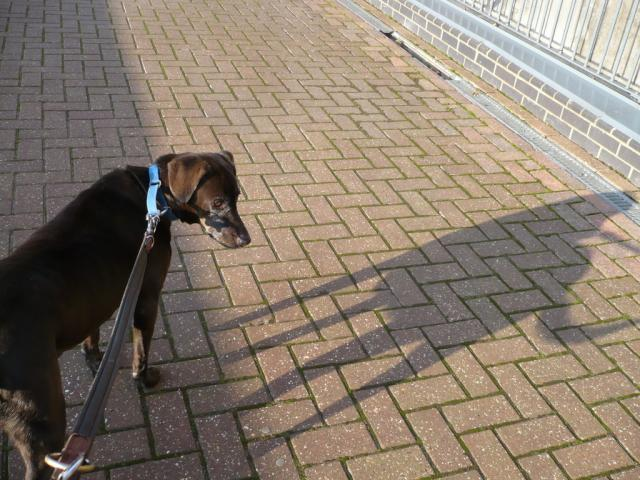Dog: (0, 149, 252, 480)
